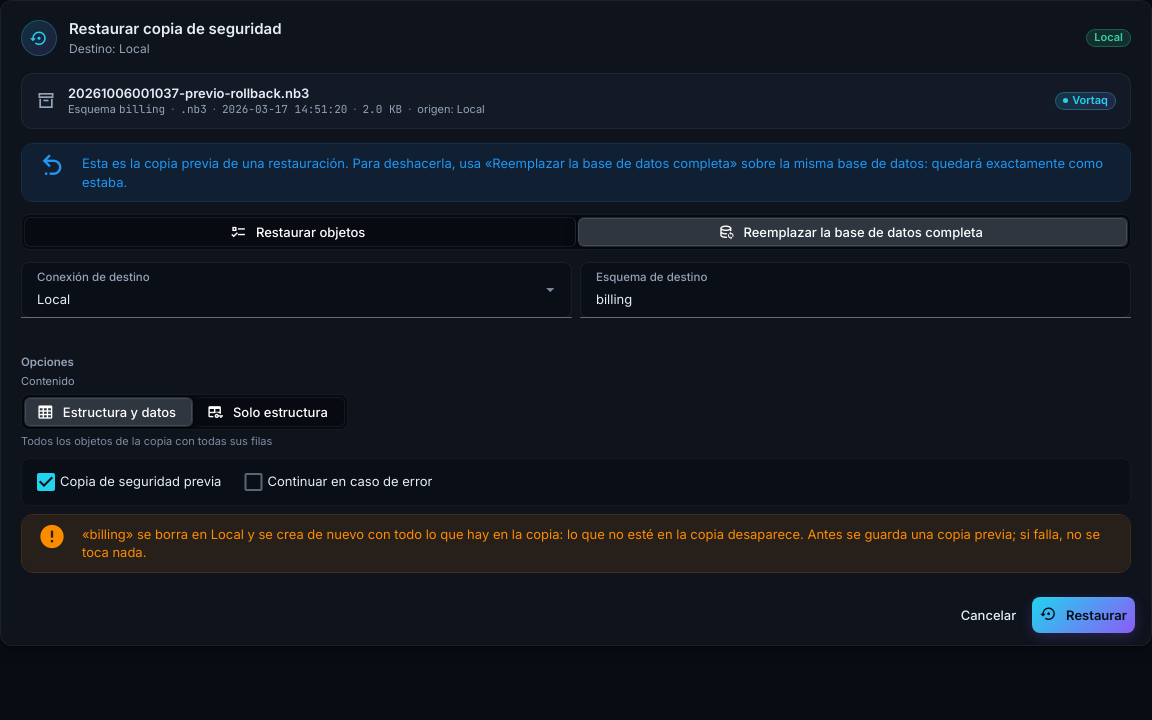
RestoreDialog › a safety copy opens in «Reemplazar la base de datos completa» mode and undoes with a confirmed replace
Expected: the message with test id "restore-safety-copy-info" is shown, [21,143,1131,202]
Expected: the element with test id "restore-replace-options" is shown, [21,458,1131,506]
Step 1. Click the button with test id "restore-submit" → [1084, 615], box [1032,597,1135,633]
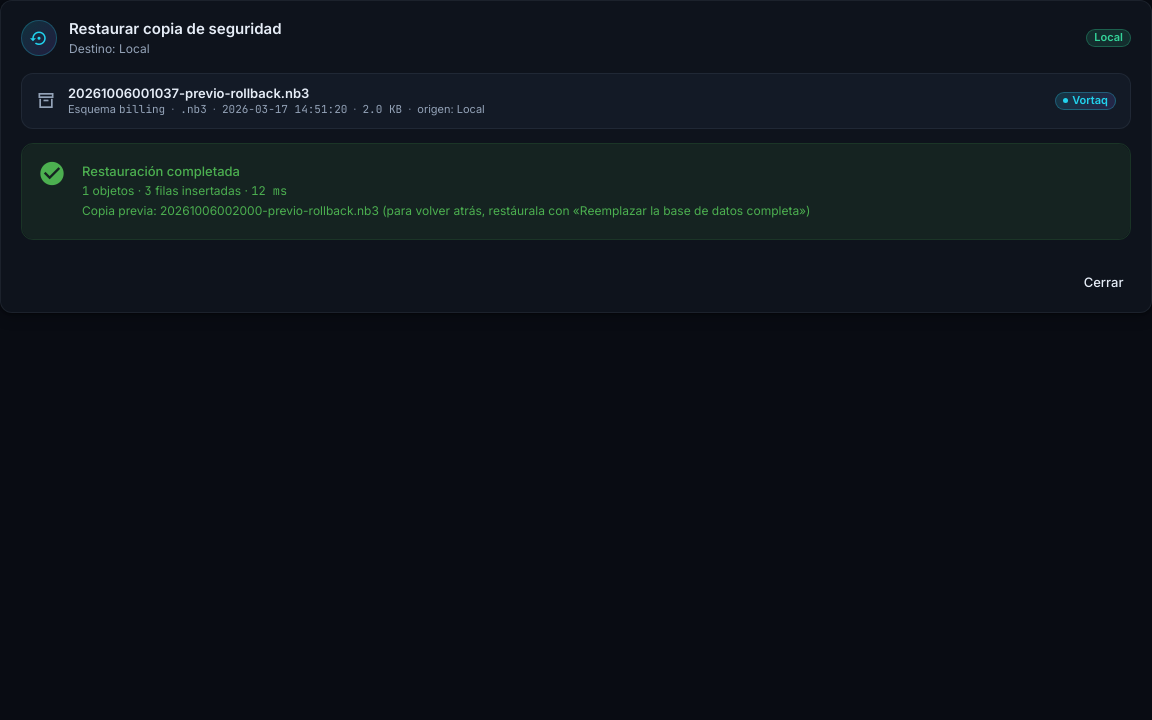
Result: the text with test id "restore-result-safety" shows "20261006002000-previo-rollback.nb3" at [82,203,810,218]
